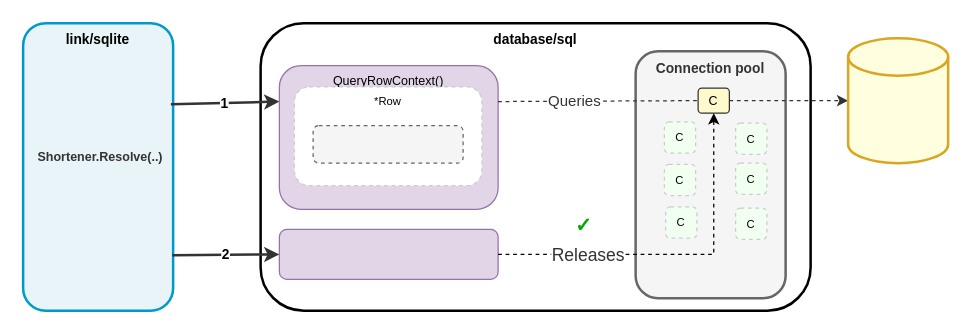
This 970x333 diagram has some shape labels left out. The shapes that lost their labels are listed below. From the top down, each one's centre as x and y in pixels, then its label:
At [897,100]: "SQLite".
At [387,143]: "<< raw row data >>".
At [388,253]: "Row.Scan(&url)".
